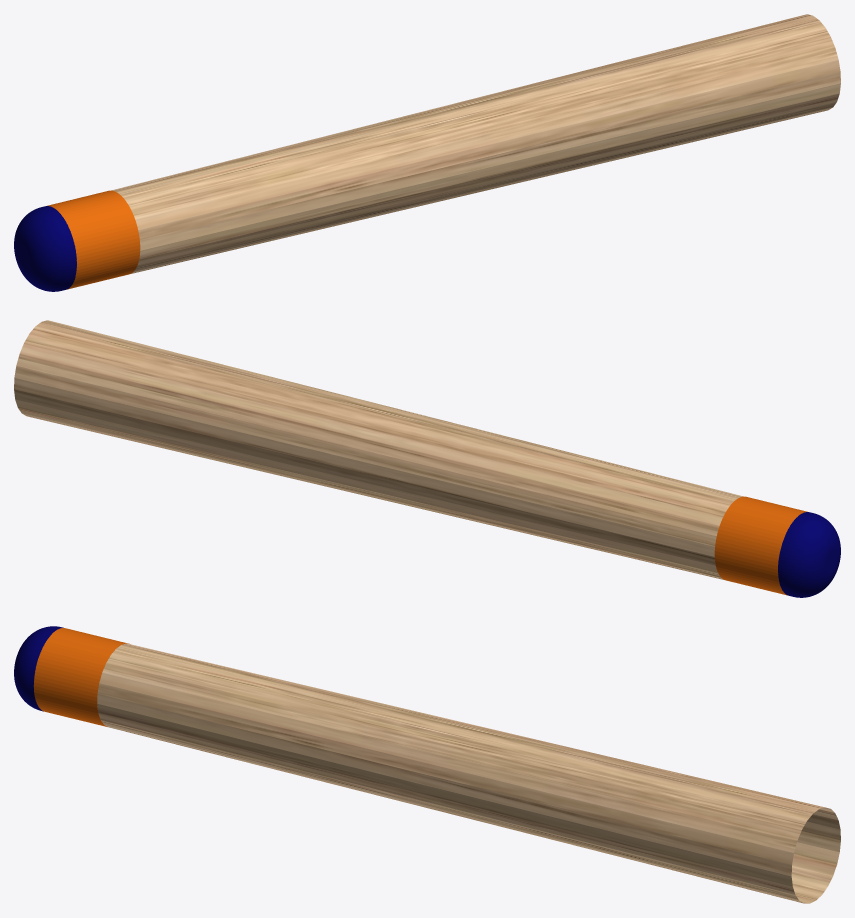
The model's file is cue.glb.
The picture shows the model from 3 angles, top to bottom: view 1: azimuth 30°, elevation 25°; view 2: azimuth 150°, elevation 25°; view 3: azimuth 330°, elevation 25°; orthographic projection.
Visible parts, largest first — view 1: cue_shaft, cue_ferrule, cue_tip; view 2: cue_shaft, cue_ferrule, cue_tip; view 3: cue_shaft, cue_ferrule, cue_tip.
Boxes of the visible parts, x1,y1,x2,y2 form: cue_shaft: (111,14,840,273); cue_ferrule: (47,190,140,289); cue_tip: (14,206,76,291); cue_shaft: (14,320,743,579); cue_ferrule: (714,496,807,595); cue_tip: (778,512,840,597); cue_shaft: (97,643,840,903); cue_ferrule: (33,628,129,726); cue_tip: (14,626,63,711).
Size of the model in its own units: 0.1 by 0.0108 by 0.0108.
3 materials, 1 textured.
